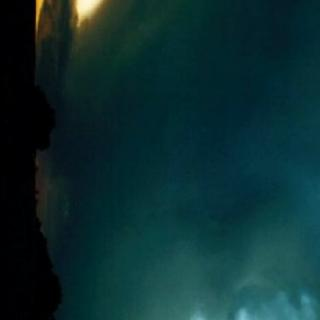Cumulonimbus: (36, 0, 320, 320)
